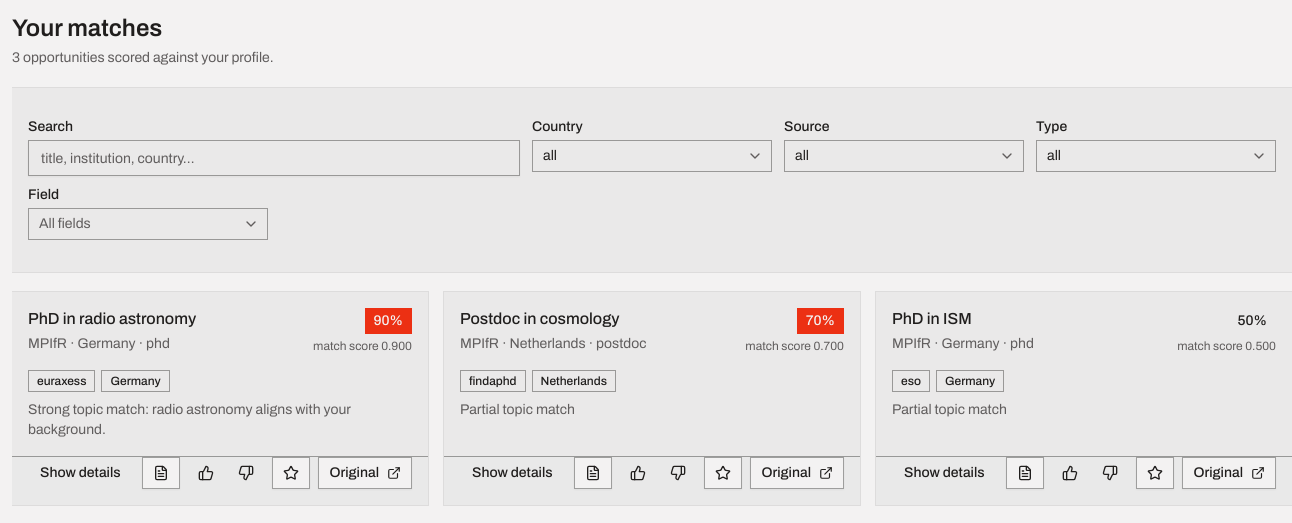
Test: DashboardPage › filters matches by country
The width and height of the screenshot is (1292, 523).
Expected: the number of elements with test id "match-card" is 3, [12,292,428,505]; [444,292,860,505]; [876,292,1291,505]
Click the dropdown named "Country" at (652, 156), box [532,140,772,172]
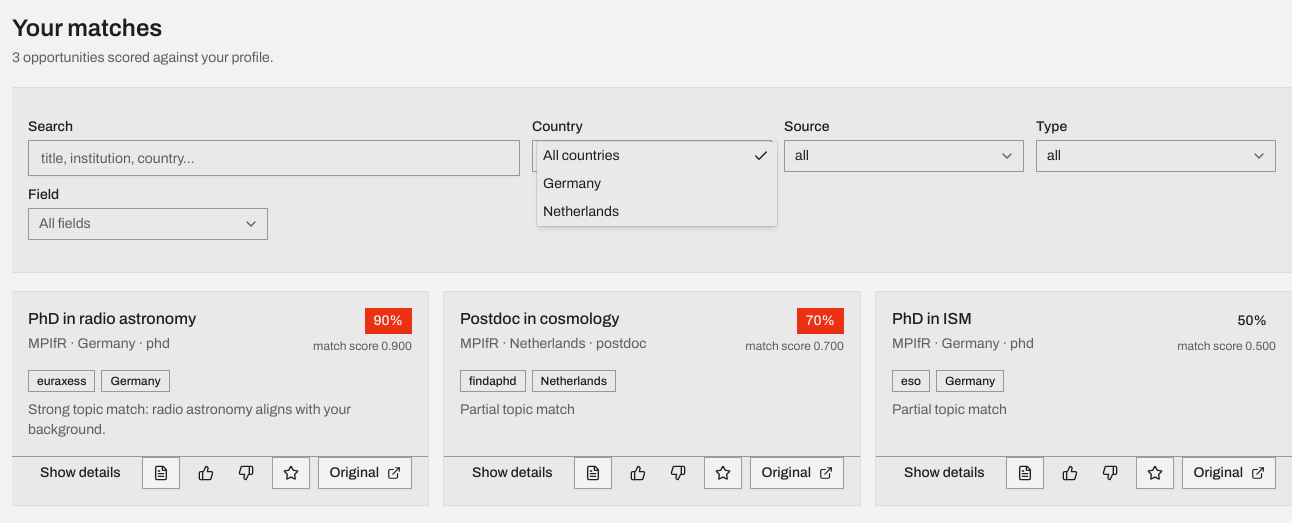
Click the option "Germany" at (572, 184), box [543,176,601,191]
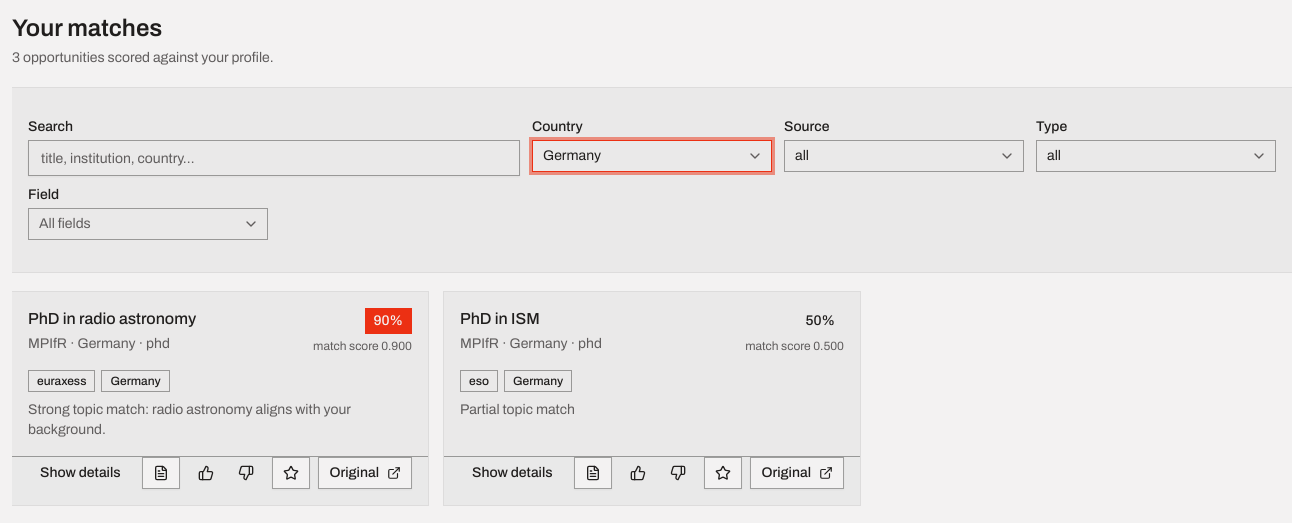
Expected: the number of elements with test id "match-card" is 2, [12,292,428,505]; [444,292,860,505]
